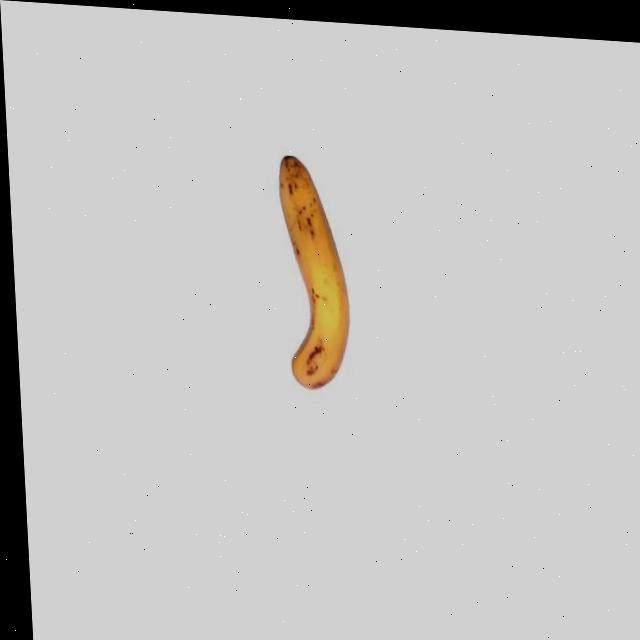banana: (272, 151, 356, 396)
